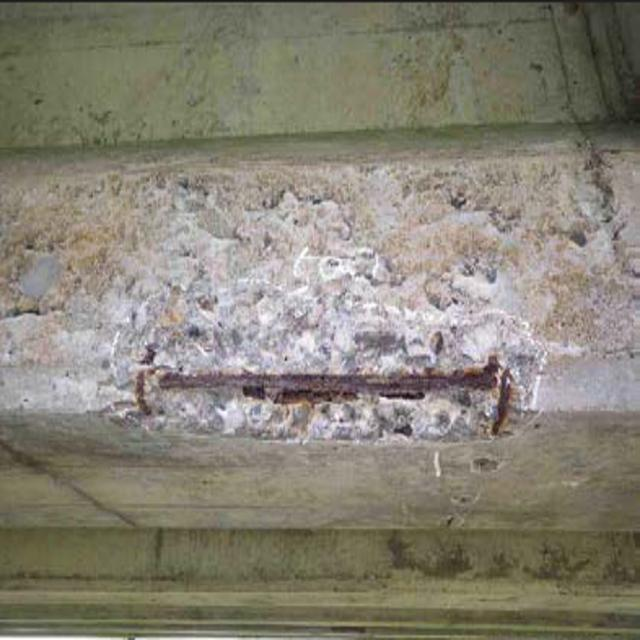spalling: (114, 197, 546, 456)
